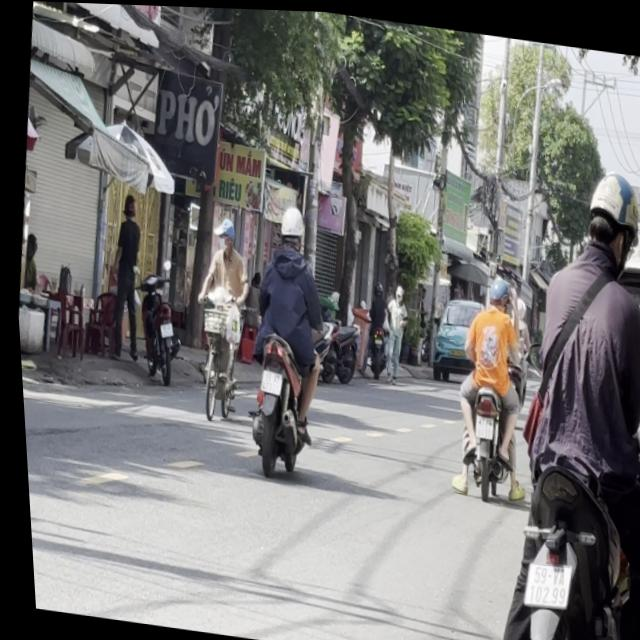helmet: (573, 164, 640, 267), (271, 201, 303, 245), (480, 269, 506, 305)
licenseplate: (457, 147, 640, 640), (226, 194, 338, 479), (435, 262, 534, 500)
nohelmet: (514, 555, 564, 604), (253, 365, 276, 392), (467, 410, 489, 435)
